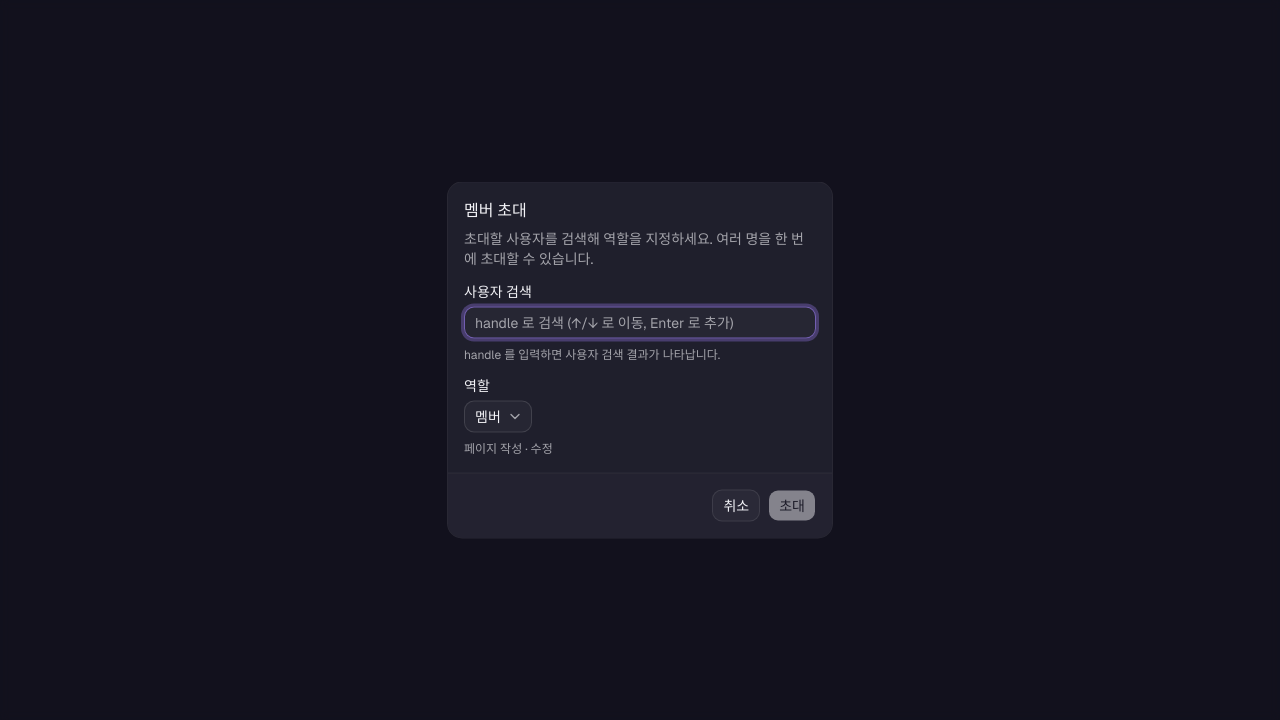
Test: InviteMemberDialog · 사용자 검색 UX › 초대 mutation 실패 시 에러가 dialog 안에 노출되고 실패한 사용자만 chip 에 남는다
In the field labelled "사용자 검색": [640, 322] box [464,306,816,338], type "a"
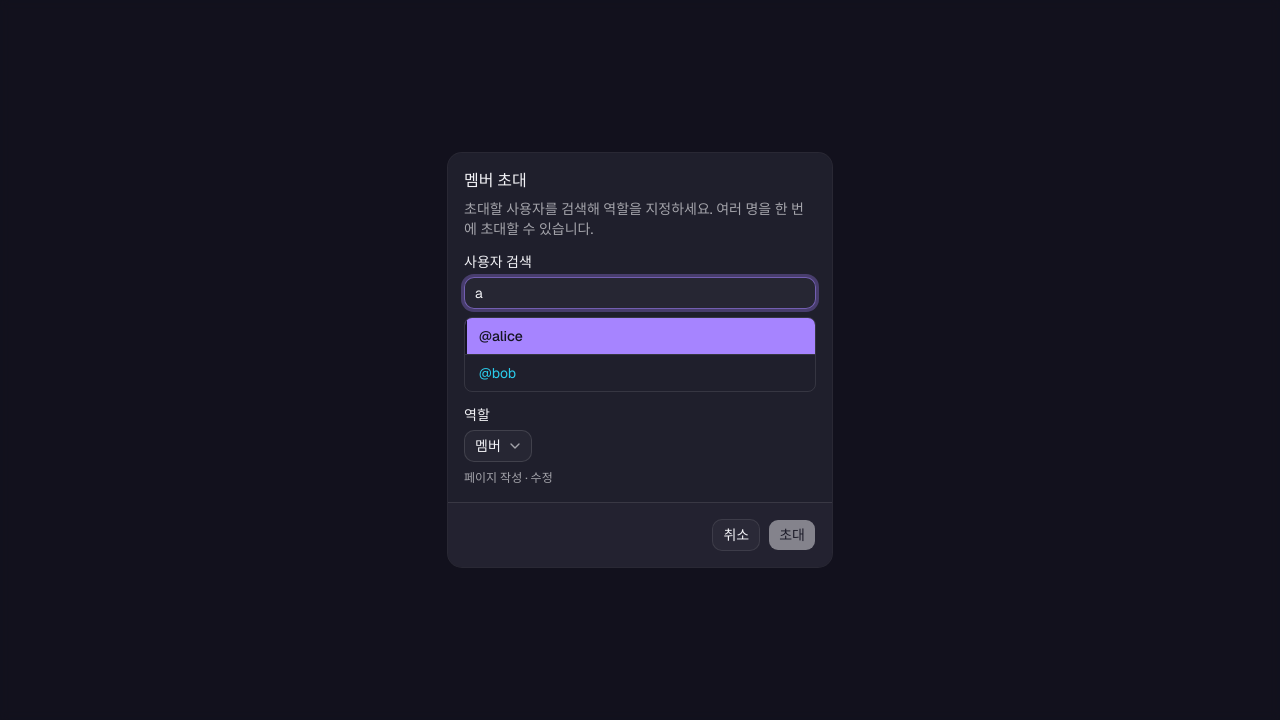
expect the option "@alice" is shown: met, box [465,318,815,354]
Press Enter
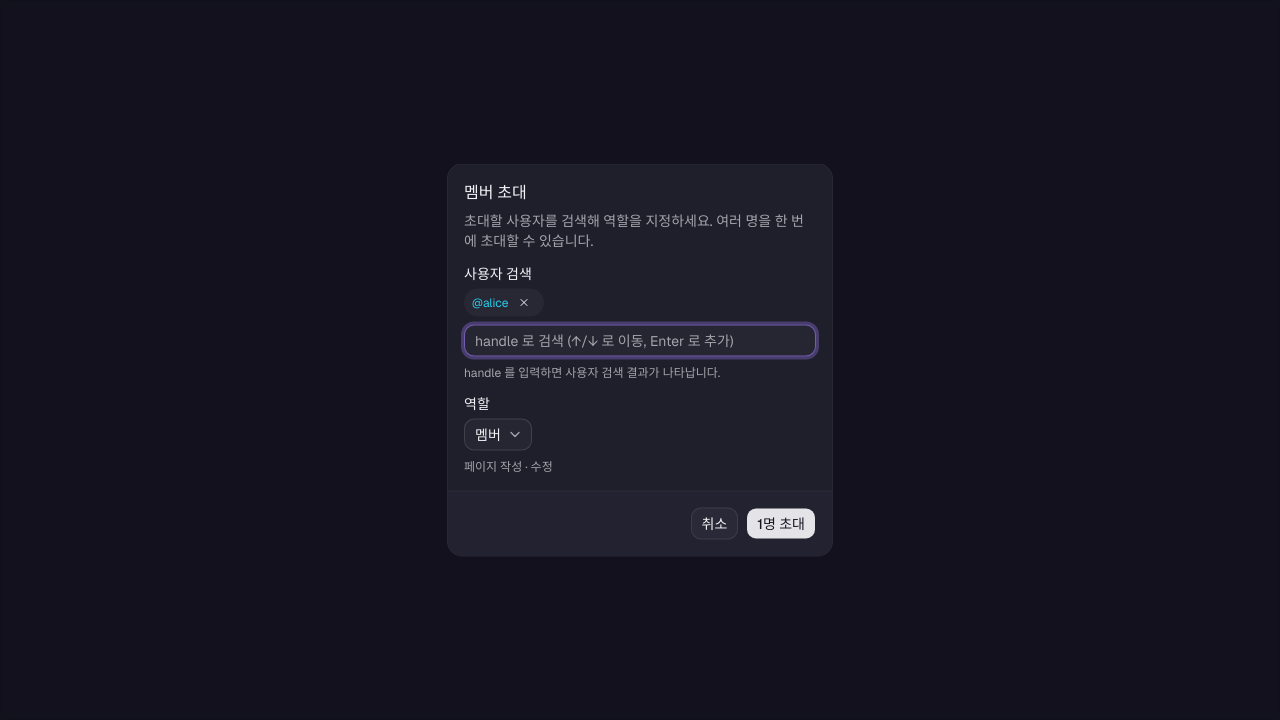
In the field labelled "사용자 검색": [640, 340] box [464,324,816,356], type "b"
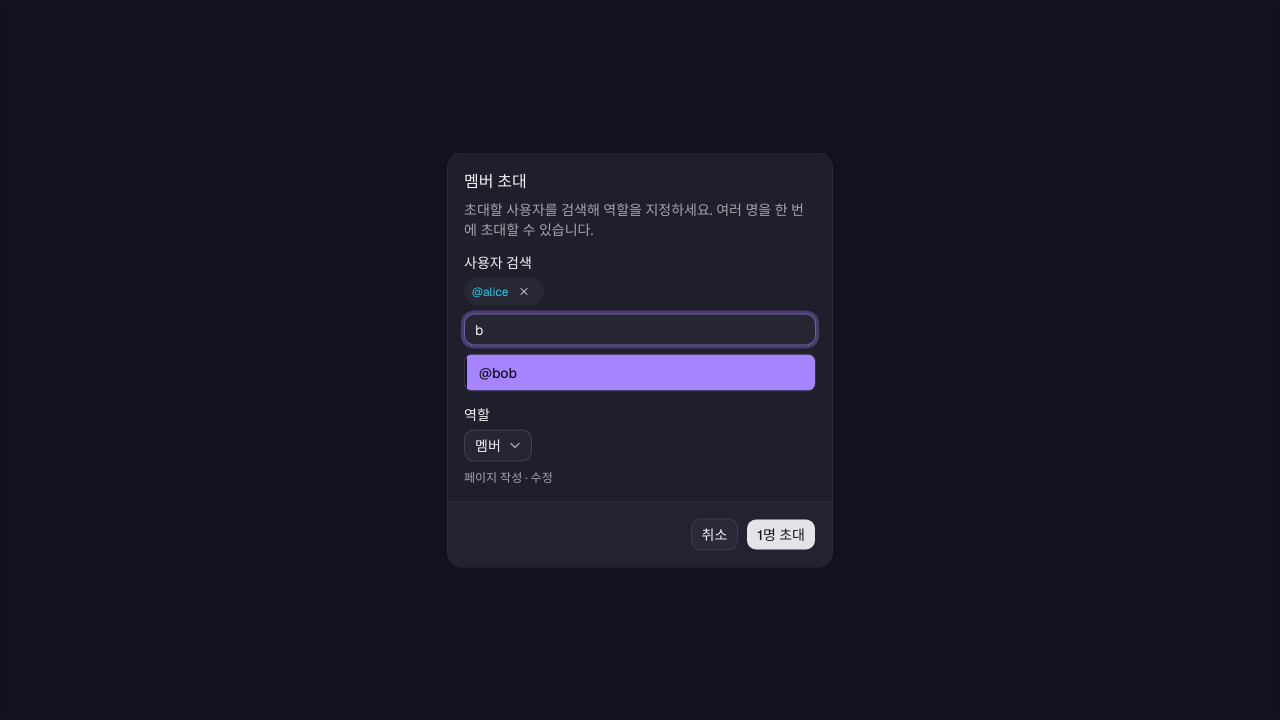
expect the option "@bob" is shown: met, box [465,354,815,390]
Press Enter
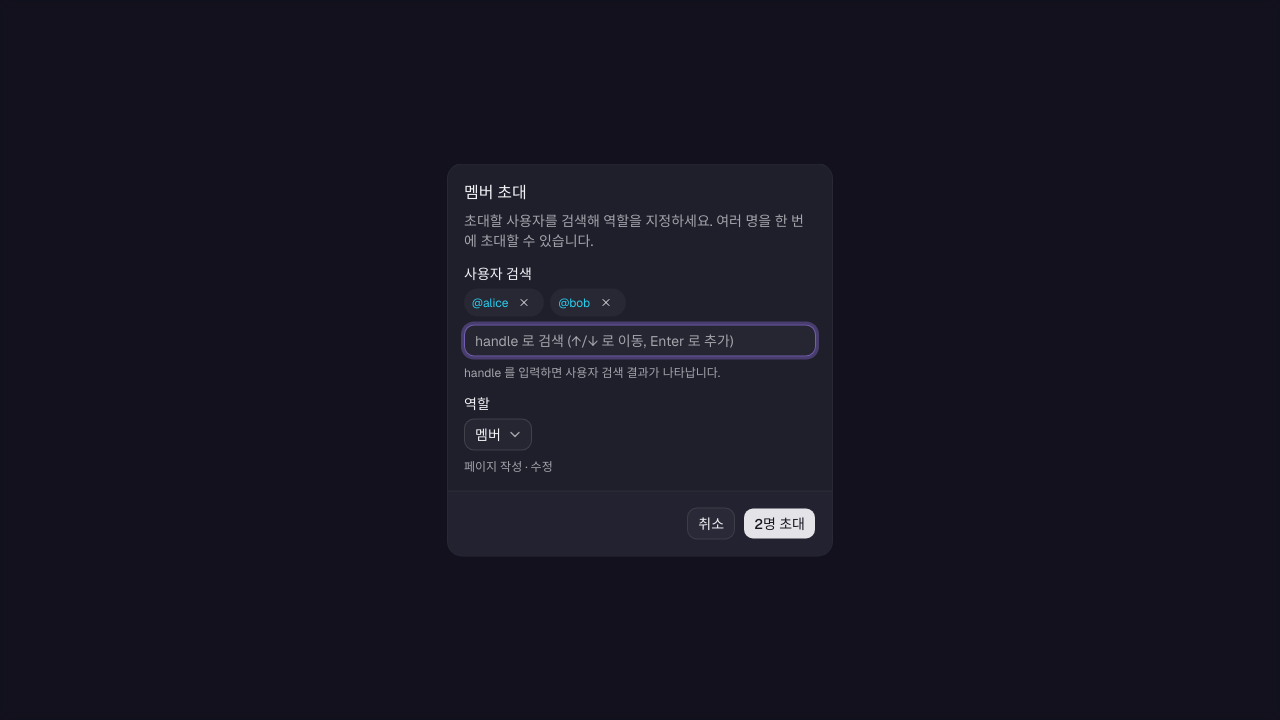
Click the button "2명 초대": [780, 524] box [743,508,816,540]
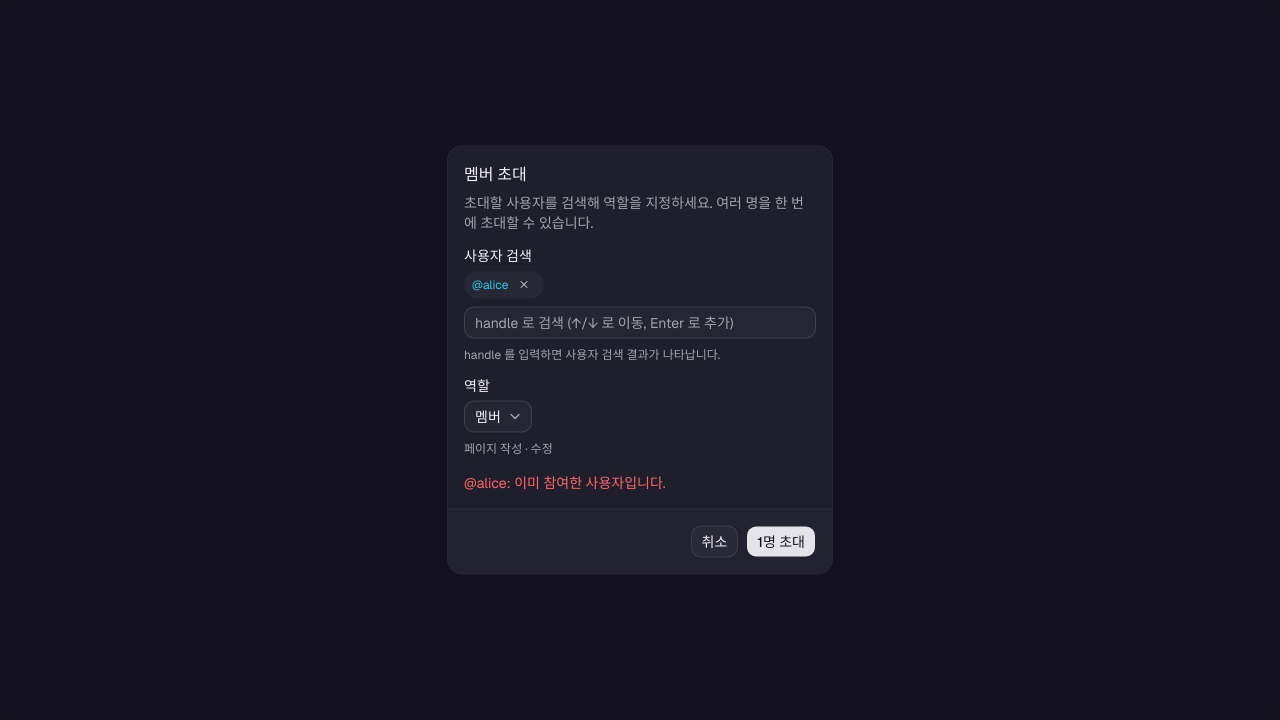
expect the button named "@alice 선택 해제" is shown: met, box [512,272,536,296]
expect the text "@alice: 이미 참여한 사용자입니다." is shown: met, box [464,474,666,492]
